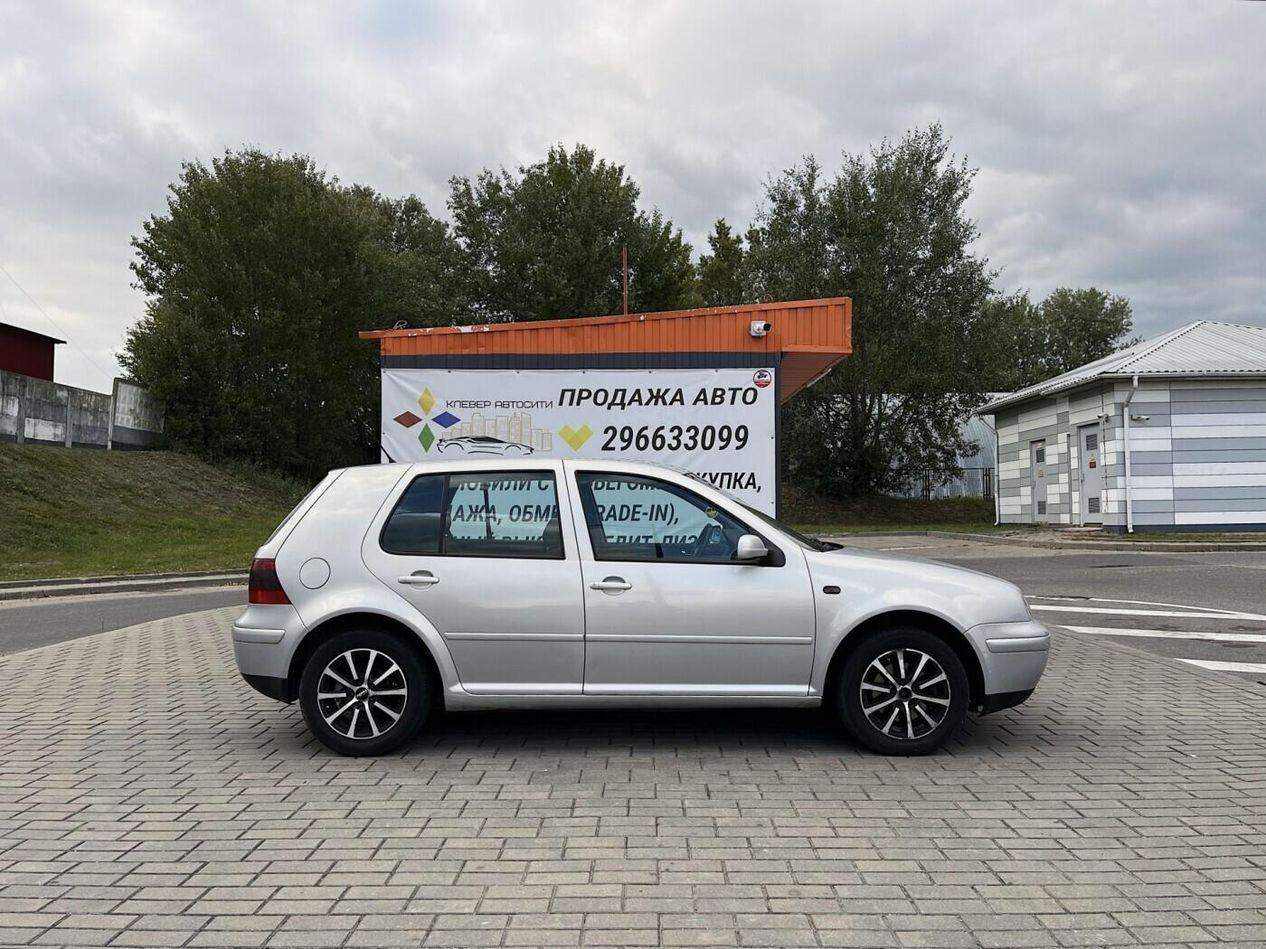Golf_1997-2006: (230, 458, 1063, 773)
